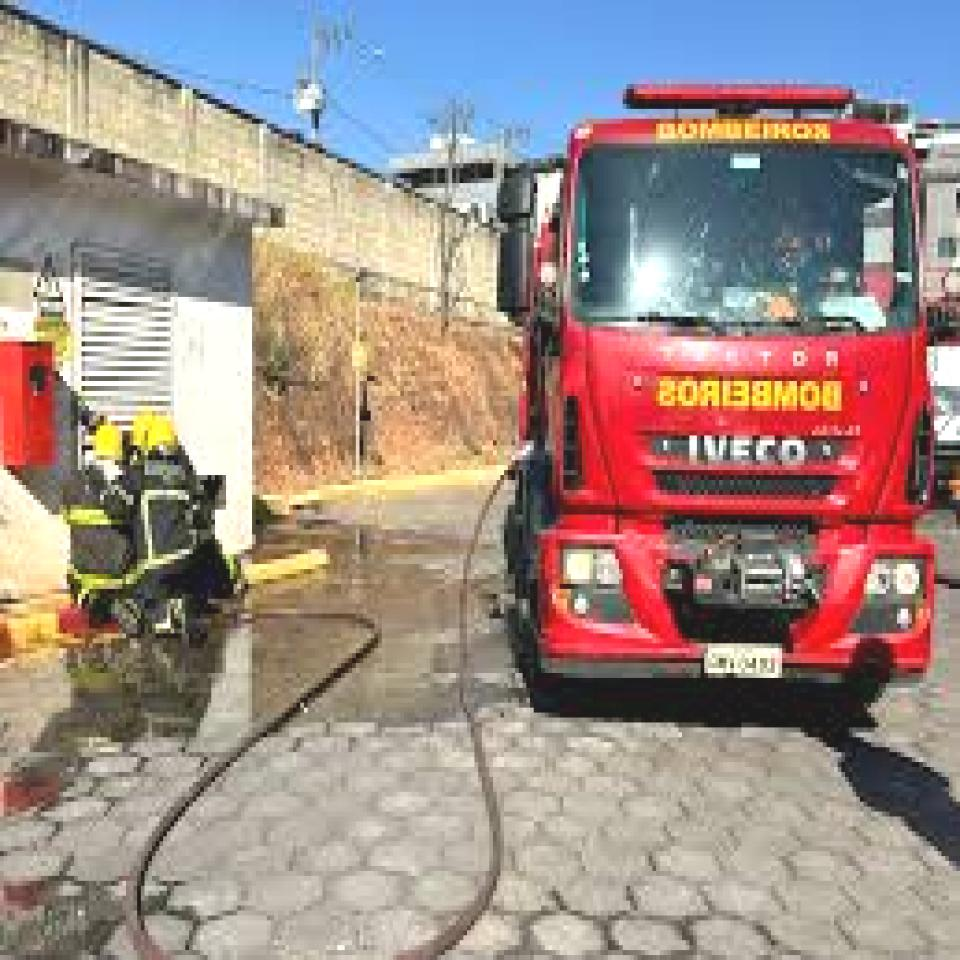bombeiro: (496, 83, 936, 684)
